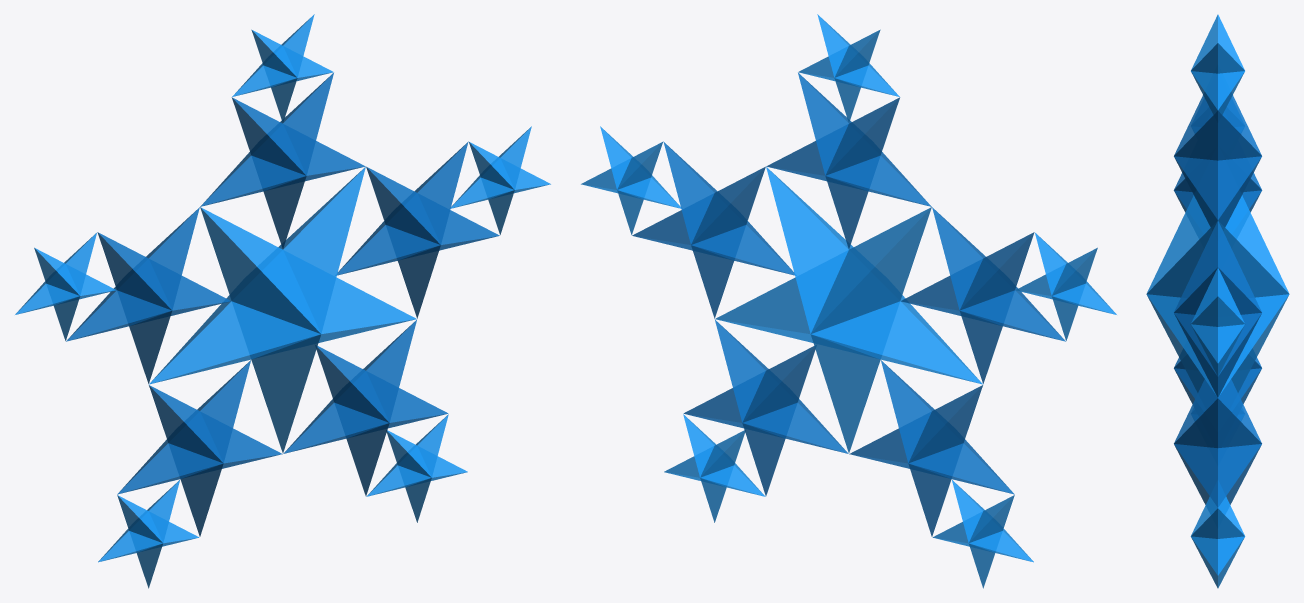
Rendered from fractalpentagrammicdipyramidA2.glb.
The picture shows the model from 3 angles, left to right: view 1: azimuth 30°, elevation 25°; view 2: azimuth 150°, elevation 25°; view 3: azimuth 270°, elevation 25°; orthographic projection. The views are drawn at different scales.
Size of the model in its own units: 9.7 by 9.23 by 2.4.
